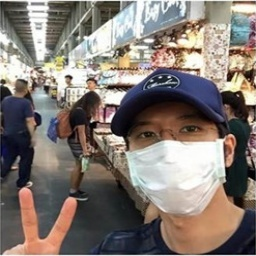correctlyWear: (122, 112, 237, 218)
noWear: (86, 80, 96, 89), (65, 76, 71, 84)
